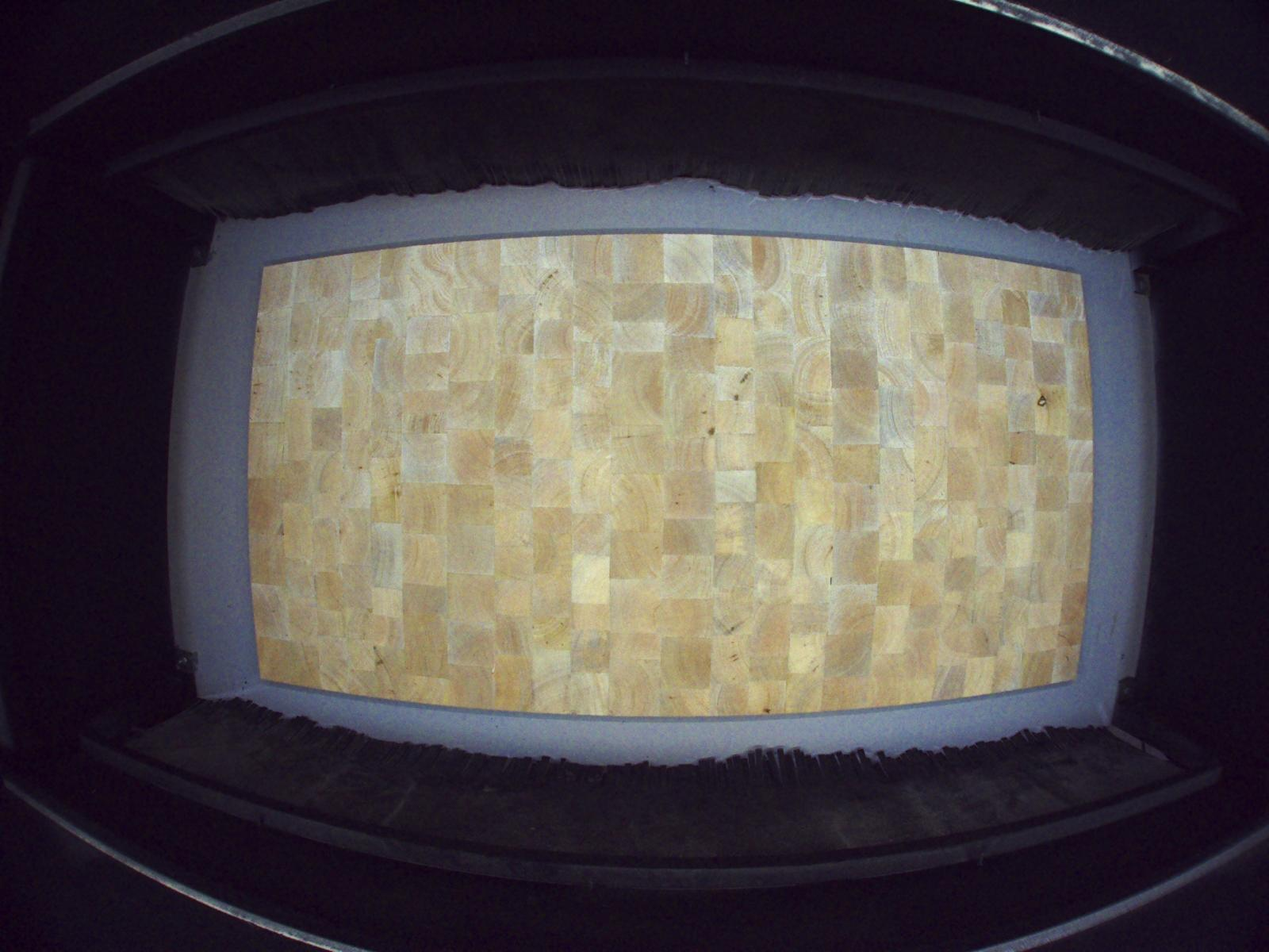sheck_ecuatoriano: (1034, 382, 1051, 430)
